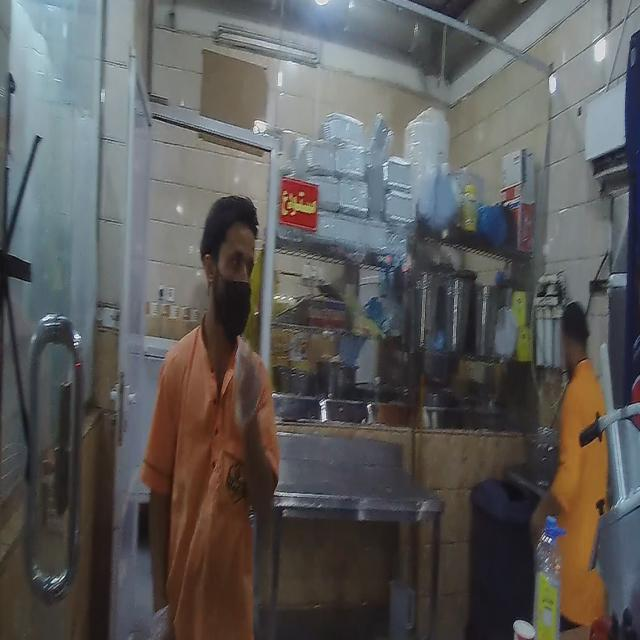face_mask: (204, 217, 256, 346)
